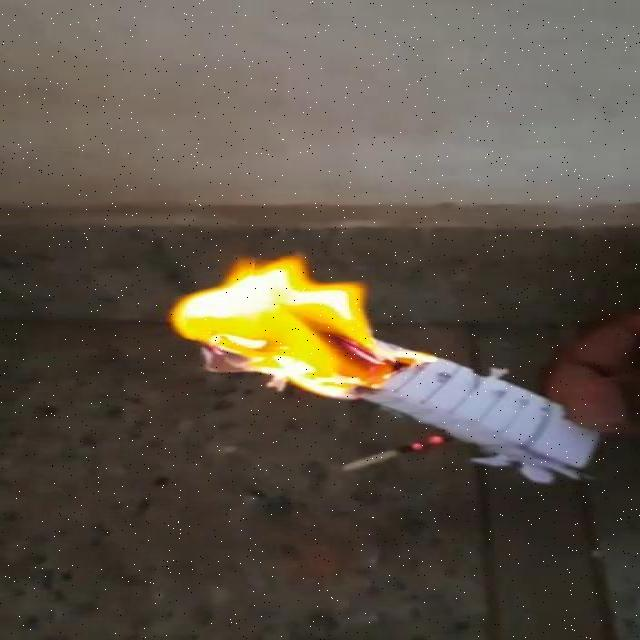fire: (169, 253, 382, 400)
